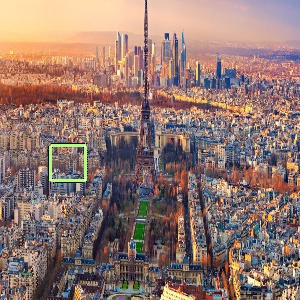square: (47, 143, 88, 183)
